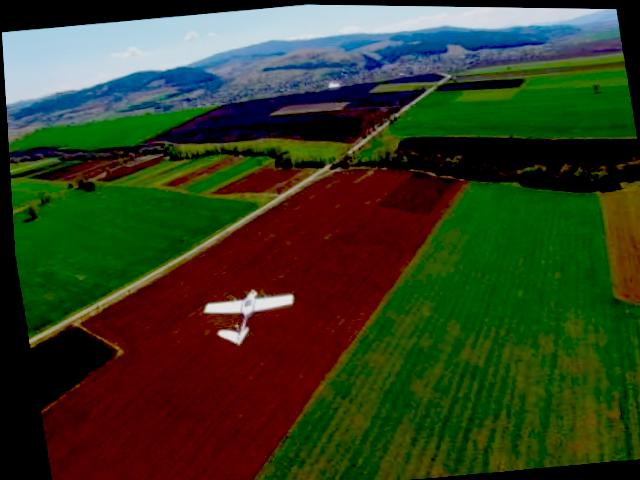uav: (194, 276, 302, 354)
